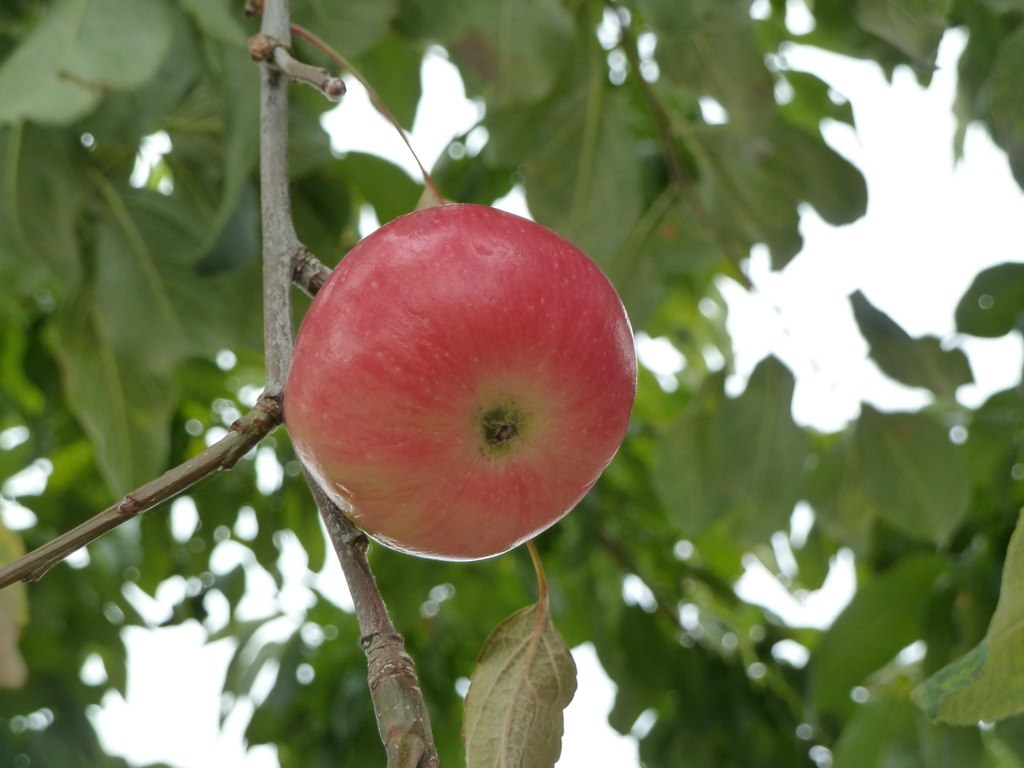Apple: (284, 189, 636, 580)
